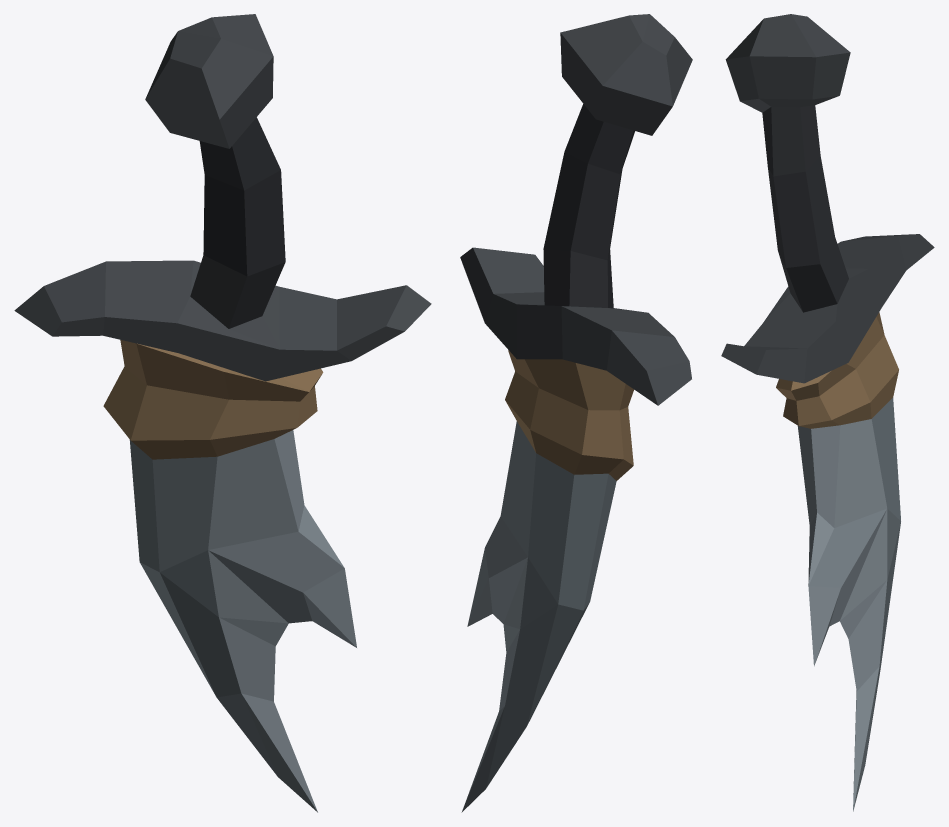
Rendered from SM_Chr_Attach_Dagger_01.fbx.
3 views of the same model, side by side, from view 1: azimuth 30°, elevation 25°; view 2: azimuth 150°, elevation 25°; view 3: azimuth 270°, elevation 25° (orthographic). The views are drawn at different scales.
Parts seen in each view (by area): view 1: SM_Chr_Attach_Dagger_01; view 2: SM_Chr_Attach_Dagger_01; view 3: SM_Chr_Attach_Dagger_01.
Boxes of the visible parts, x1,y1,x2,y2 form: SM_Chr_Attach_Dagger_01: [14, 14, 431, 812]; SM_Chr_Attach_Dagger_01: [460, 14, 692, 812]; SM_Chr_Attach_Dagger_01: [721, 14, 934, 811].
Size of the model in its own units: 18.62 by 48.52 by 12.7.
